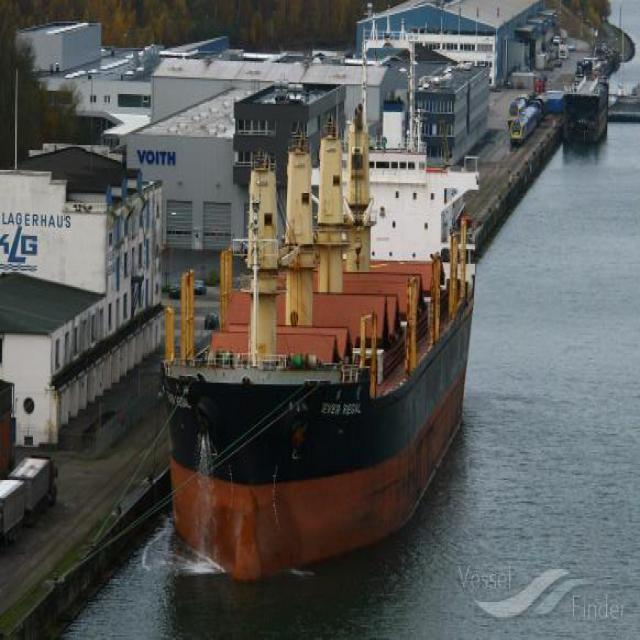OCR: (317, 392, 364, 426)
